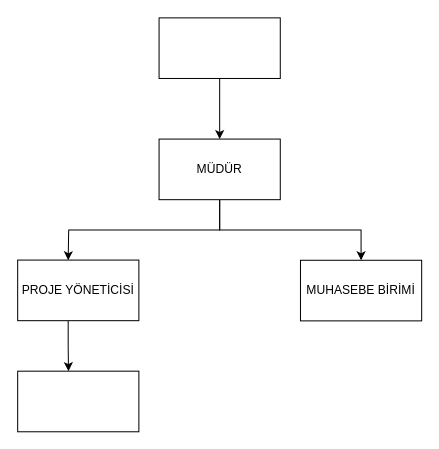
The diagram is 439 pixels wide and 449 high, and some of its shapes have lost their labels. Each missing label, with the centre of its shape:
"YAZILIM DEPARTMANI" goes at point (78, 401).
"YÖNETİM KURULU" goes at point (219, 47).
